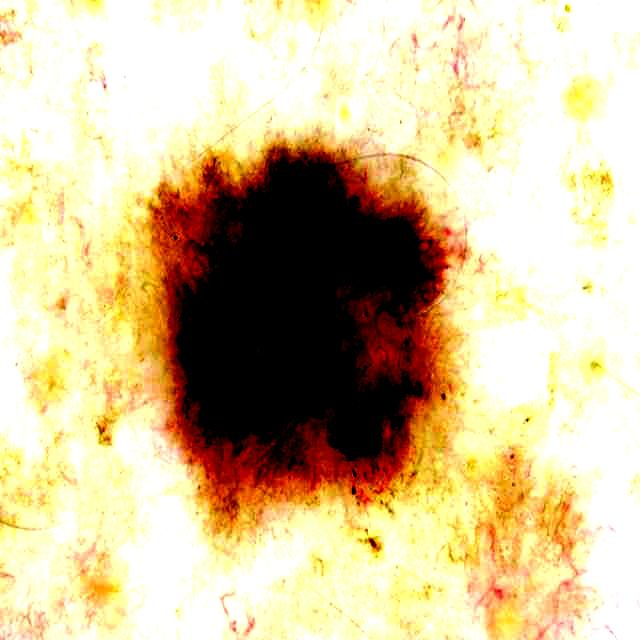NV: (151, 148, 464, 484)
